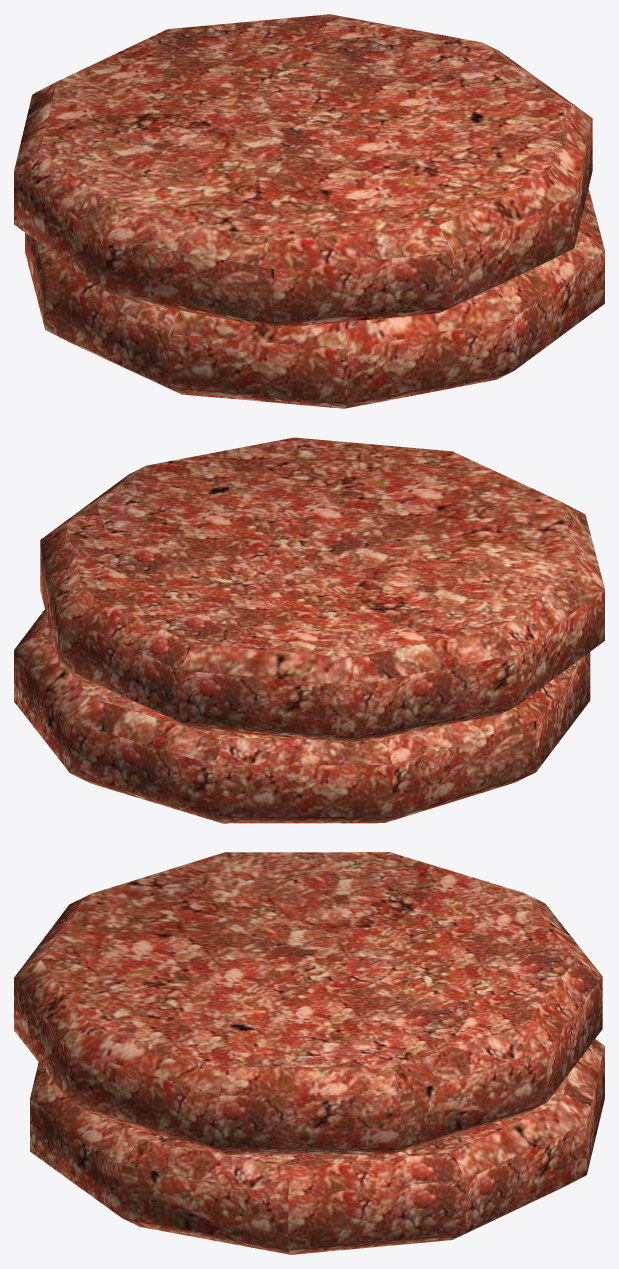
The model's file is burger.dae.
3 renders of one model, top to bottom at view 1: azimuth 30°, elevation 25°; view 2: azimuth 150°, elevation 25°; view 3: azimuth 270°, elevation 25°, orthographic. The views are drawn at different scales.
Parts seen in each view (by area): view 1: Component_24 (×2); view 2: Component_24 (×2); view 3: Component_24 (×2).
Part boxes in pixels (<box>): Component_24 (×2): <box>14,14,604,408</box>; Component_24 (×2): <box>14,437,604,823</box>; Component_24 (×2): <box>14,852,604,1254</box>.
Bounding box in the file's own units: 3.87 × 3.87 × 1.26.
Materials: 1 (1 with a texture image).
